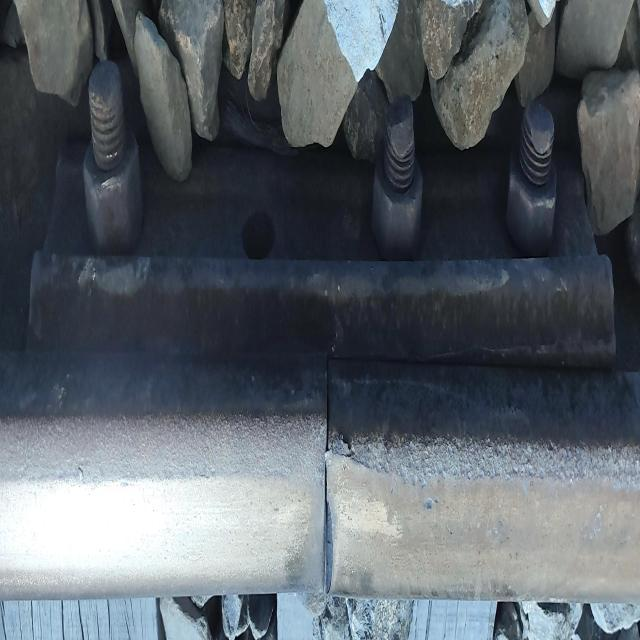Defective Joint: (26, 86, 627, 355)
